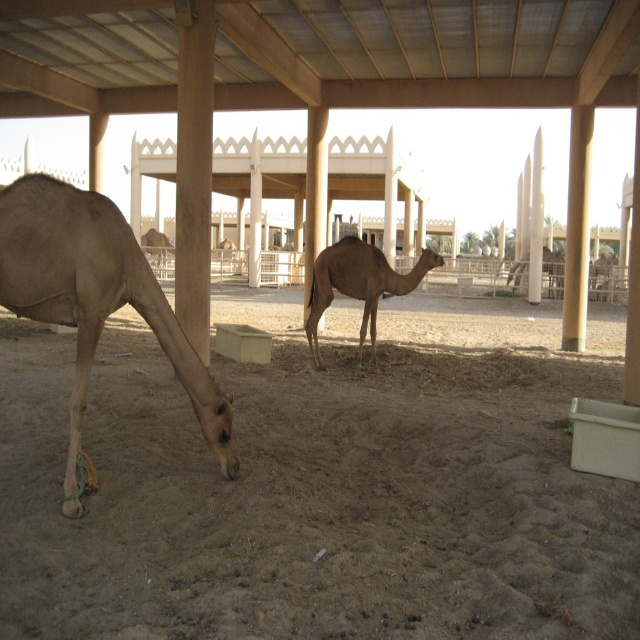Camel: (0, 172, 239, 521), (304, 230, 446, 376)
